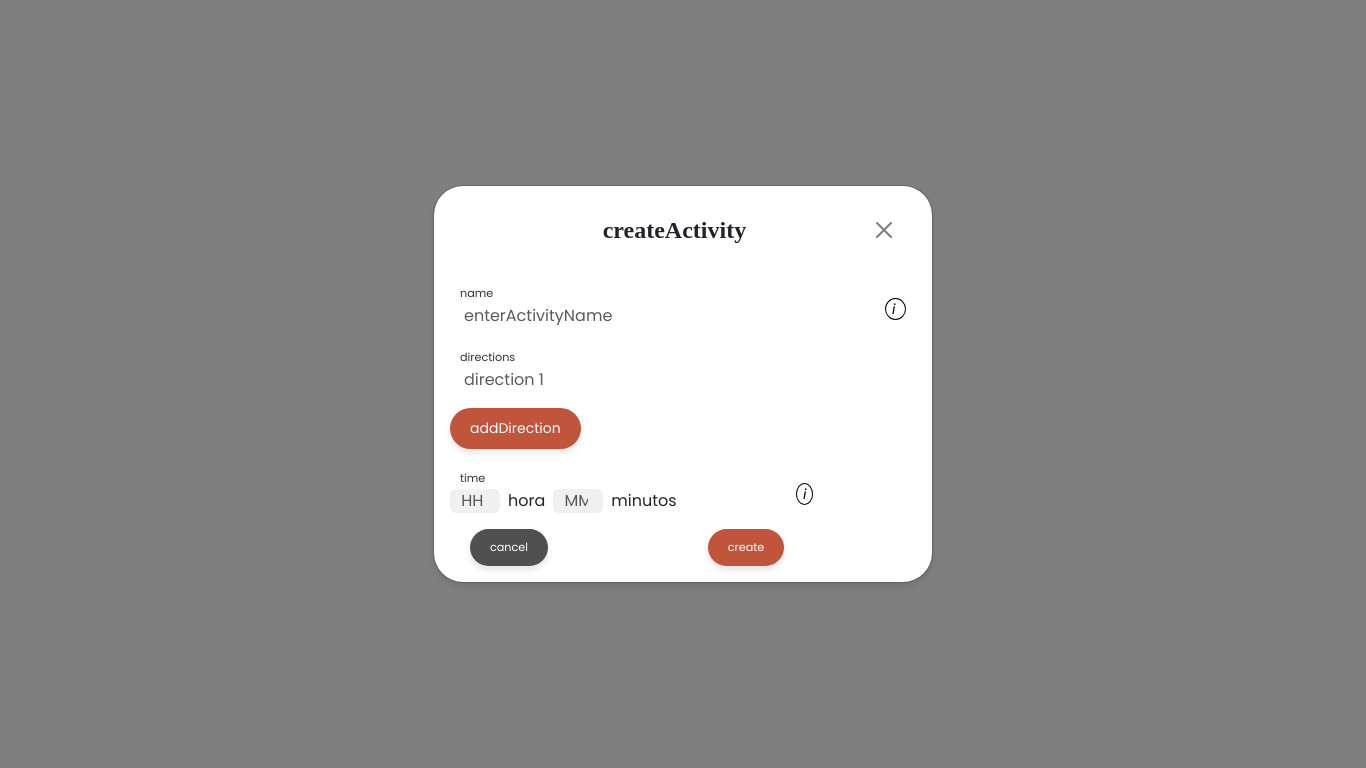
Test: CreateActivities Component › removes a direction (if more than one exists)
The width and height of the screenshot is (1366, 768).
// Añadir una dirección adicional para que podamos eliminarla
Click the button "addDirection": {"x": 515, "y": 429} [450,408,581,449]
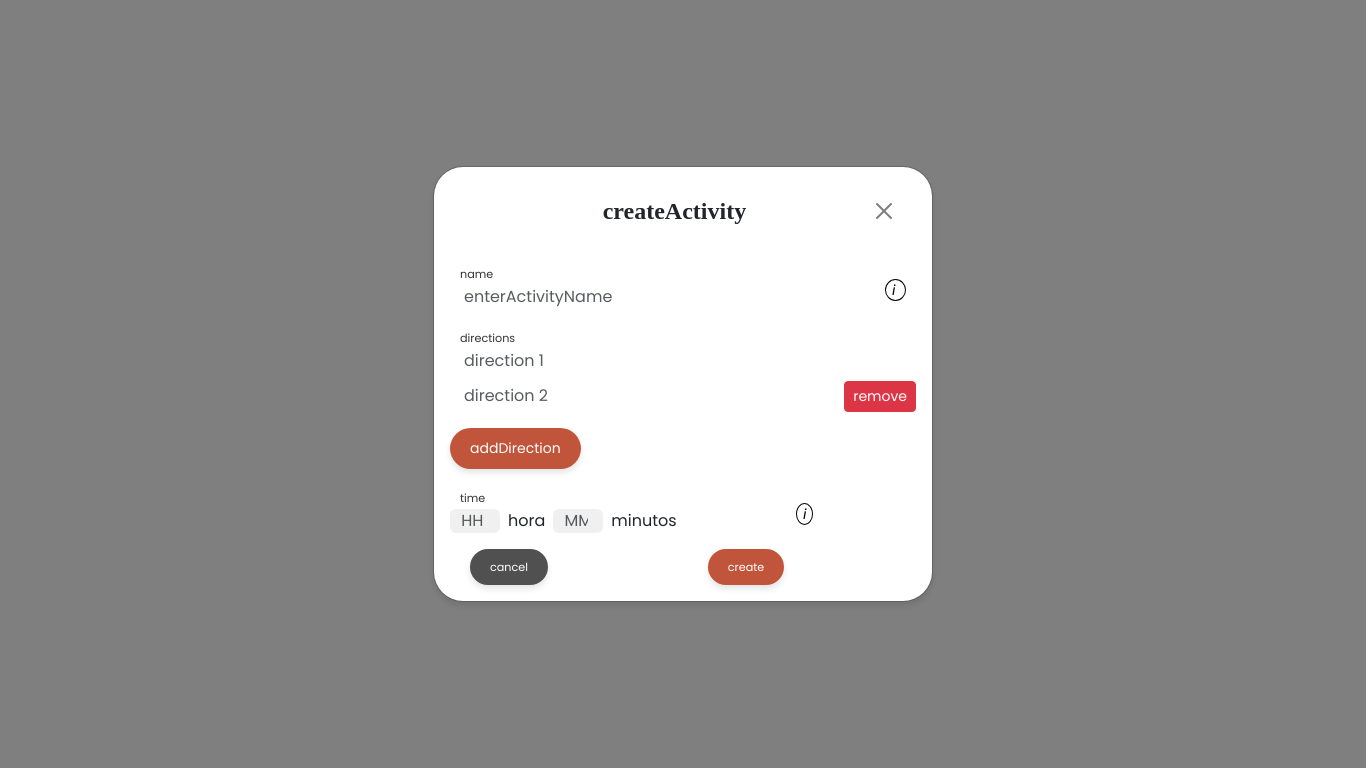
Expected: the number of buttons "remove" is 1
Click the button "remove": {"x": 880, "y": 396} [844,381,916,412]
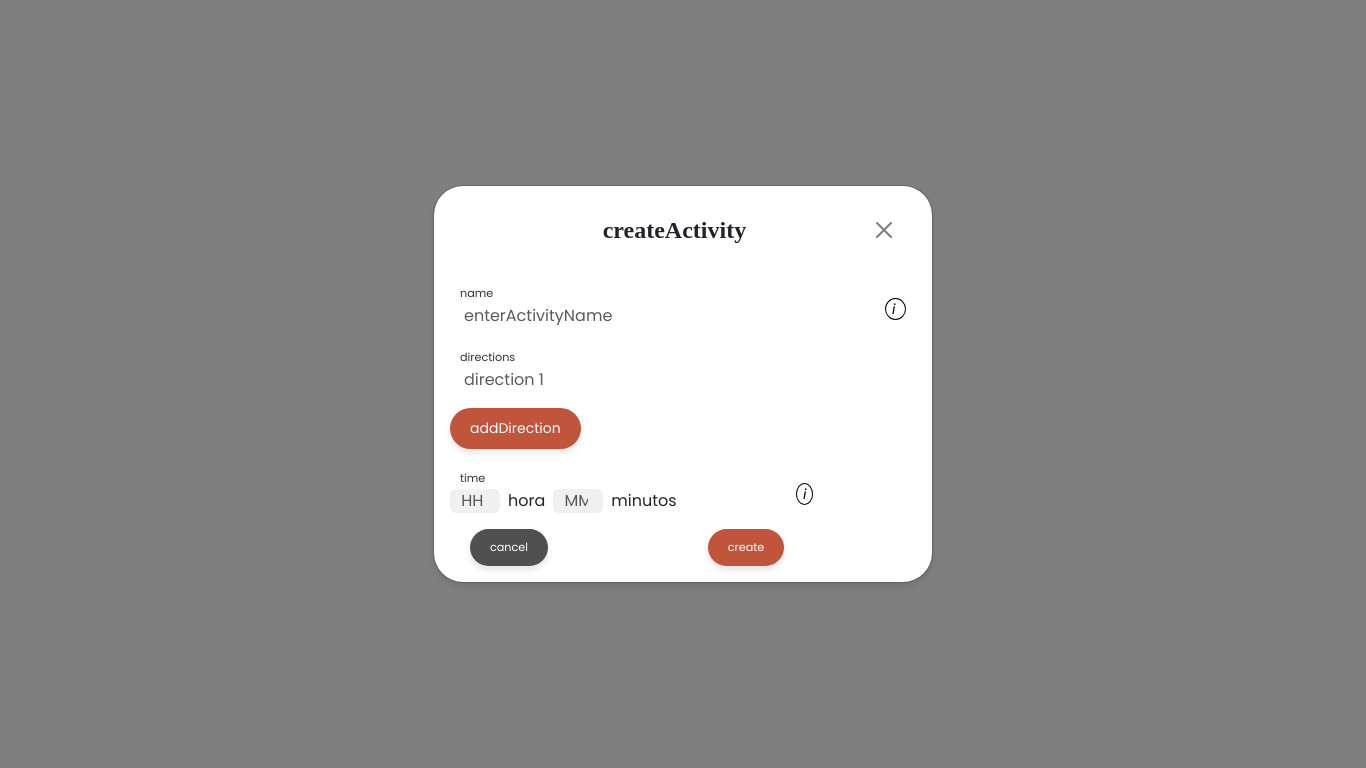
Expected: the number of fields with placeholder "direction 1" is 1, [450,368,916,392]
